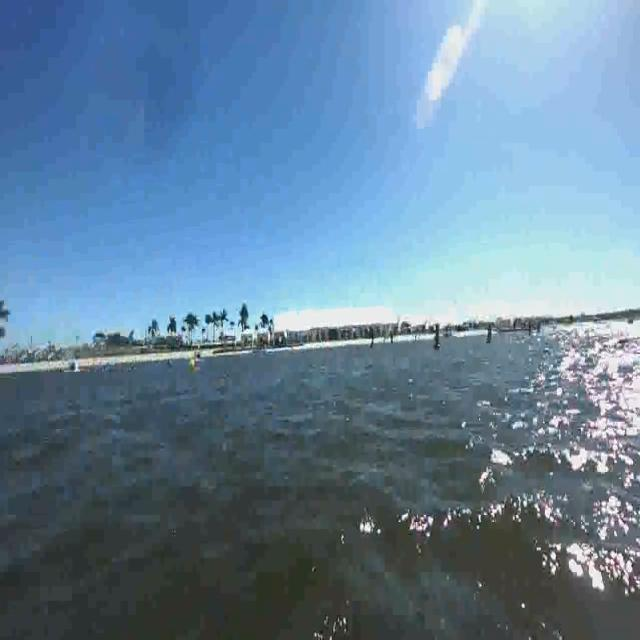yellow-buoy: (190, 356, 195, 368)
